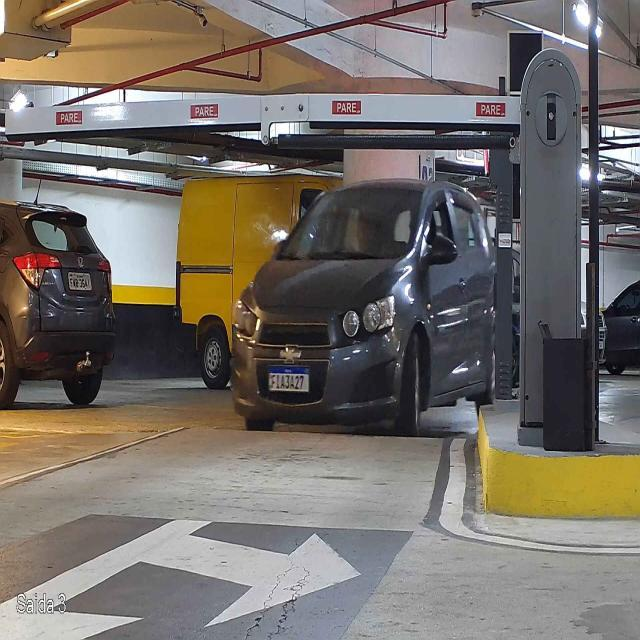mercosul_plate: (266, 365, 311, 393)
